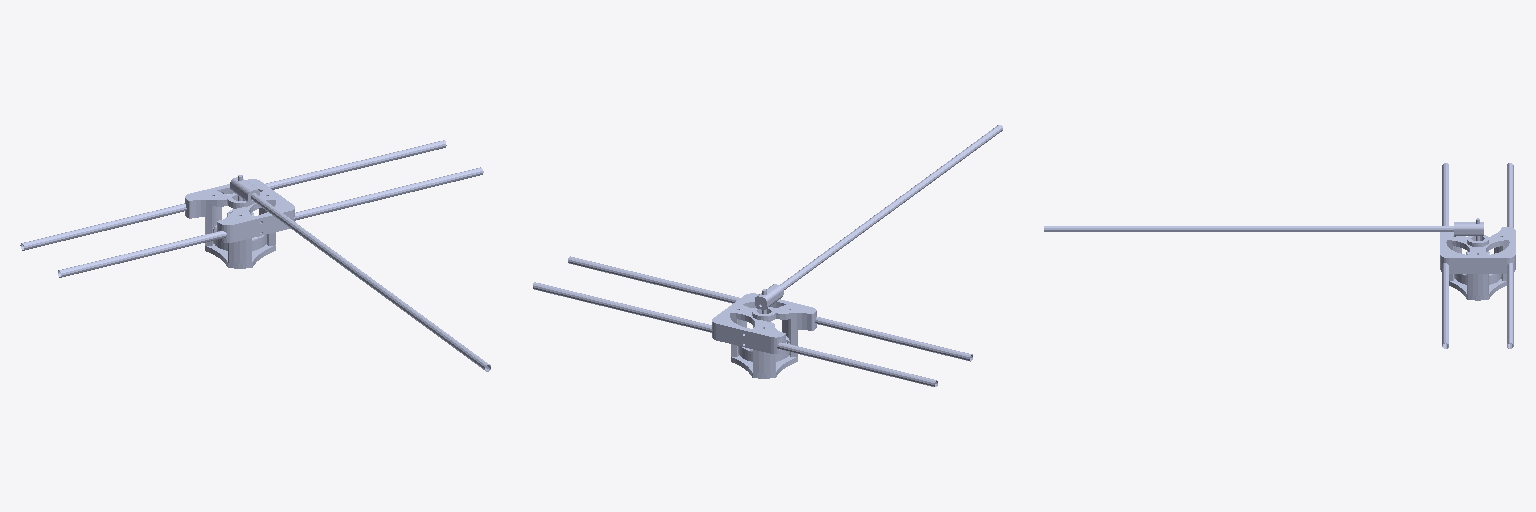
robot.urdf — TorquePole2:
<?xml version="1.0" encoding="utf-8"?>
<!-- This URDF was automatically created by SolidWorks to URDF Exporter! Originally created by [author] ([email redacted]) 
     Commit Version: 1.6.0-4-g7f85cfe  Build Version: 1.6.7995.38578
     For more information, please see http://wiki.ros.org/sw_urdf_exporter -->
<robot
  name="TorquePole2">
  <link
    name="base_link">
    <inertial>
      <origin
        xyz="0.004735 -9.5049E-08 0.029199"
        rpy="0 0 0" />
      <mass
        value="0.13052" />
      <inertia
        ixx="8.7064E-05"
        ixy="-1.1929E-09"
        ixz="-2.1711E-06"
        iyy="0.00032409"
        iyz="2.8698E-10"
        izz="0.00038694" />
    </inertial>
    <visual>
      <origin
        xyz="0 0 0"
        rpy="0 0 0" />
      <geometry>
        <mesh
          filename="package://TorquePole2/meshes/base_link.STL" />
      </geometry>
      <material
        name="">
        <color
          rgba="0.79216 0.81961 0.93333 1" />
      </material>
    </visual>
    <collision>
      <origin
        xyz="0 0 0"
        rpy="0 0 0" />
      <geometry>
        <mesh
          filename="package://TorquePole2/meshes/base_link.STL" />
      </geometry>
    </collision>
  </link>
  <link
    name="pendulum_link">
    <inertial>
      <origin
        xyz="8.1535E-11 -0.057063 0.044048"
        rpy="0 0 0" />
      <mass
        value="0.027671" />
      <inertia
        ixx="0.00012638"
        ixy="-6.8173E-09"
        ixz="-4.9901E-14"
        iyy="3.2322E-06"
        iyz="-1.9833E-08"
        izz="0.00012821" />
    </inertial>
    <visual>
      <origin
        xyz="0 0 0"
        rpy="0 0 0" />
      <geometry>
        <mesh
          filename="package://TorquePole2/meshes/pendulum_link.STL" />
      </geometry>
      <material
        name="">
        <color
          rgba="0.79216 0.81961 0.93333 1" />
      </material>
    </visual>
    <collision>
      <origin
        xyz="0 0 0"
        rpy="0 0 0" />
      <geometry>
        <mesh
          filename="package://TorquePole2/meshes/pendulum_link.STL" />
      </geometry>
    </collision>
  </link>
  <joint
    name="pendulum"
    type="continuous">
    <origin
      xyz="0 0 0"
      rpy="0 0 0" />
    <parent
      link="base_link" />
    <child
      link="pendulum_link" />
    <axis
      xyz="0 0 -1" />
    <limit
      effort="0.5"
      velocity="3000" />
  </joint>
</robot>

--- Render facts (derived) ---
The picture shows the robot from 3 angles, left to right: view 1: azimuth 30°, elevation 25°; view 2: azimuth 150°, elevation 25°; view 3: azimuth 270°, elevation 25°; orthographic projection.
Model TorquePole2 with 2 links and 1 joints (1 continuous), rooted at base_link, posed all joints at 0.
Links seen in each view (by area): view 1: base_link, pendulum_link; view 2: base_link, pendulum_link; view 3: base_link, pendulum_link.
Boxes of the visible links, <box> form: base_link: <box>20,140,483,277</box>; pendulum_link: <box>213,175,490,371</box>; base_link: <box>533,256,972,386</box>; pendulum_link: <box>738,125,1002,361</box>; base_link: <box>1440,163,1515,348</box>; pendulum_link: <box>1044,218,1501,284</box>.
Size in the robot's own frame: 0.5 by 0.5525 by 0.088 metres.
Meshes: 2 distinct files referenced, 2 mesh visuals loaded (2 binary STL).
